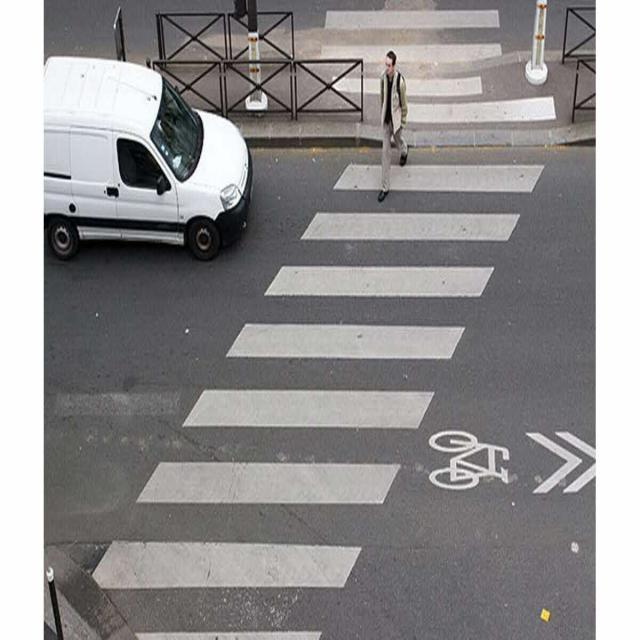crosswalk: (90, 146, 551, 640)
